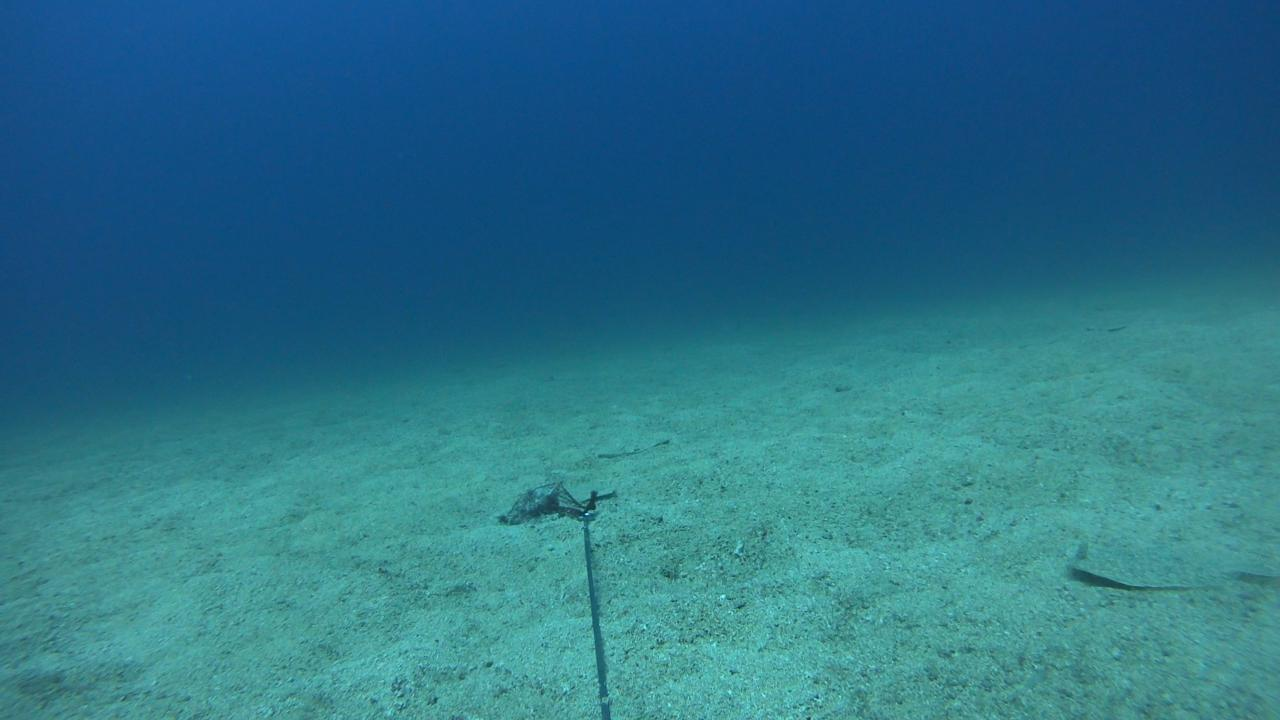bothus: (1062, 526, 1242, 598)
